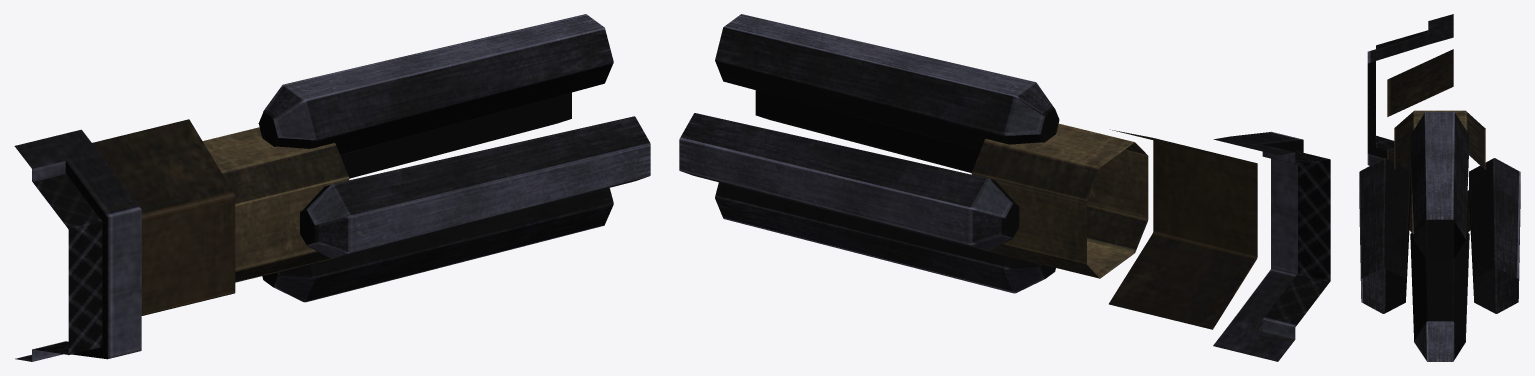
Rendered from v_nail2_3.obj.
3 renders of one model, left to right at view 1: azimuth 30°, elevation 25°; view 2: azimuth 150°, elevation 25°; view 3: azimuth 270°, elevation 25°, orthographic. The views are drawn at different scales.
Size of the model in its own units: 30.2 by 10.75 by 10.28.
1 material, 1 textured.
